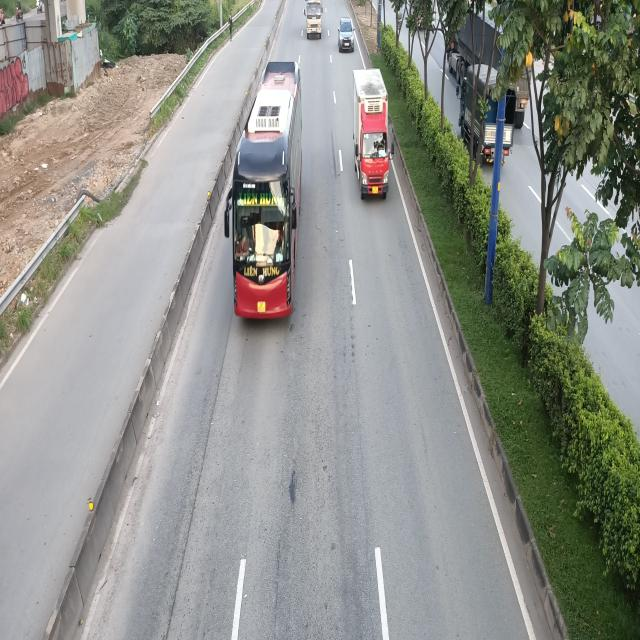car: (339, 16, 355, 52)
coach: (226, 61, 304, 326)
truck: (352, 67, 393, 201), (304, 0, 324, 39)
